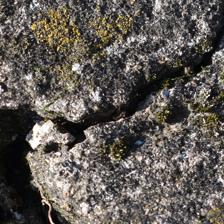Crack: (26, 19, 193, 127)
